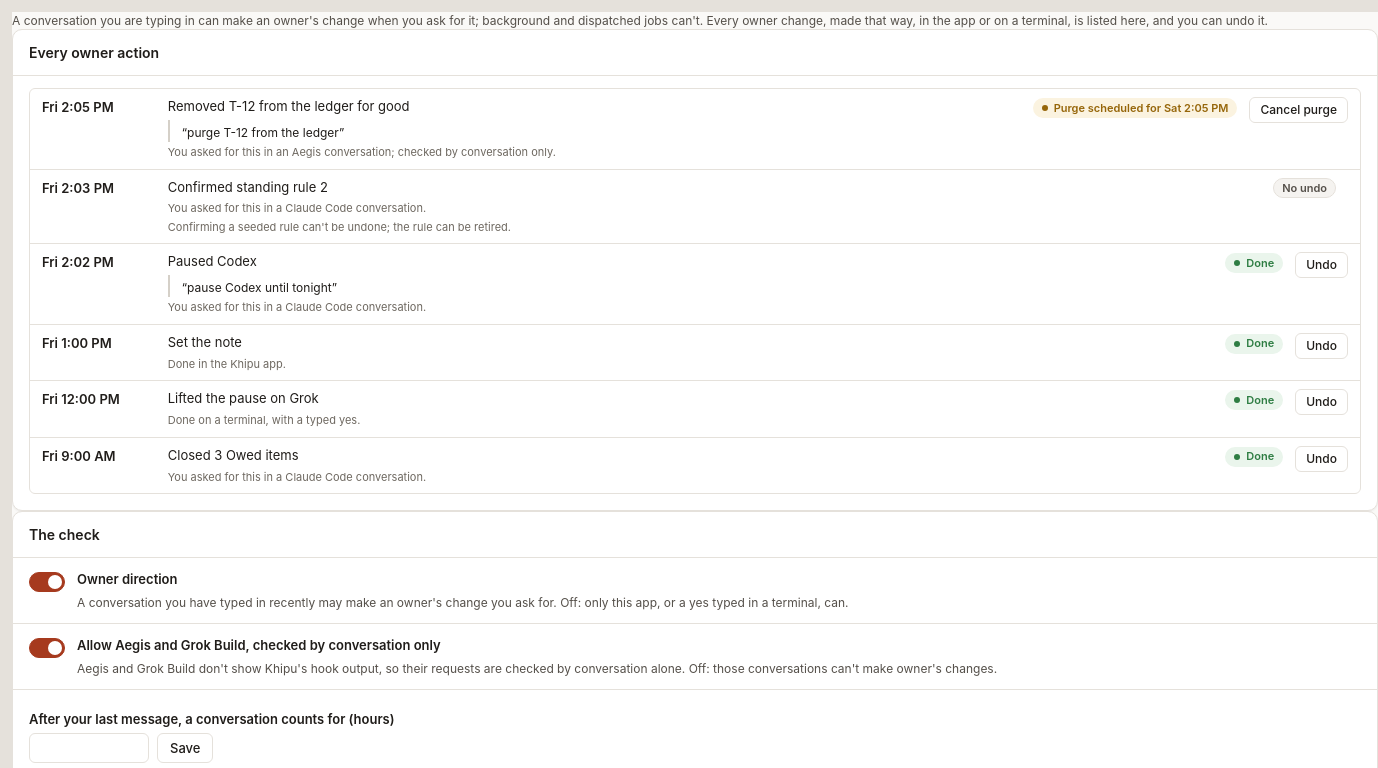
Test: Owner actions › a close of several Owed items by direction says how many, with an Undo
Click the button with aria-label "Undo: Closed 3 Owed items" at (1322, 459), box [1295,446,1348,472]
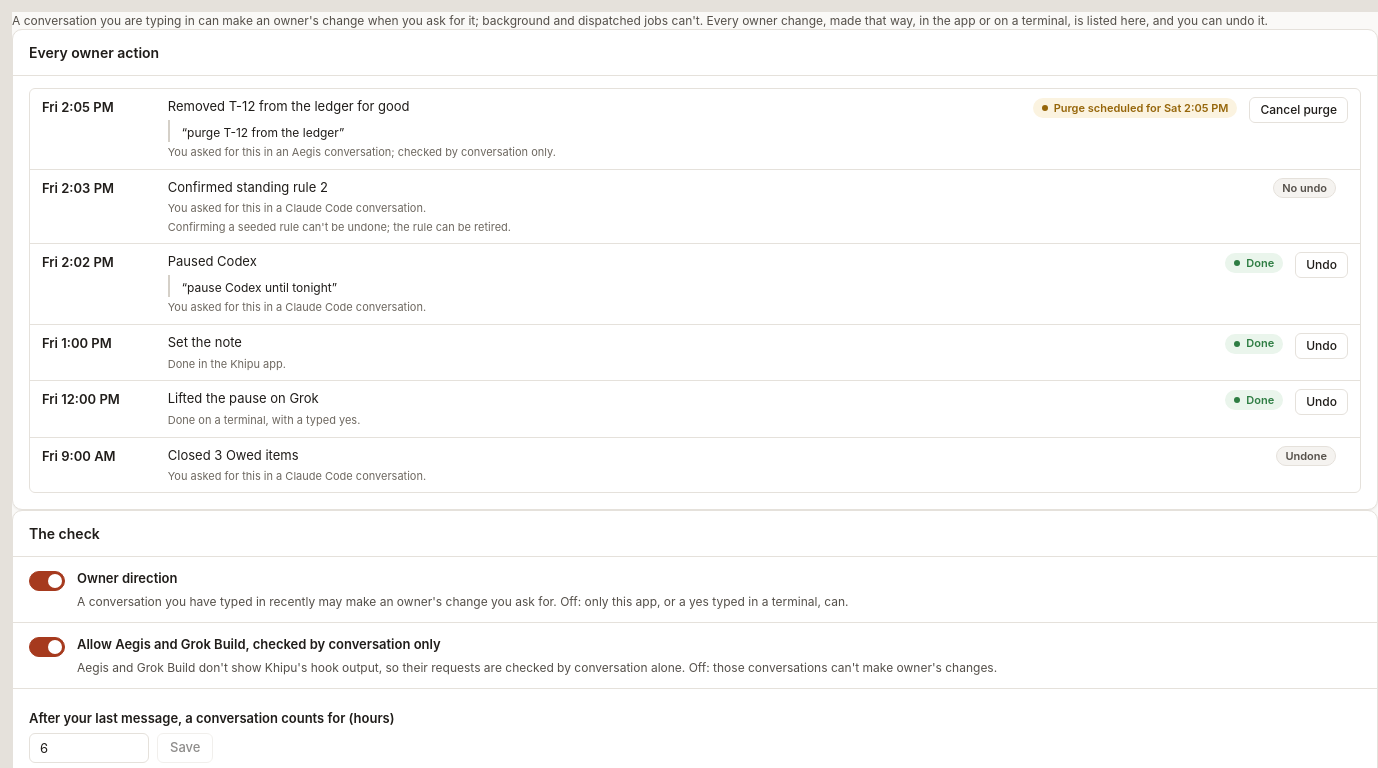
Check: the text "Undone" is shown, box [1276,446,1336,466]
